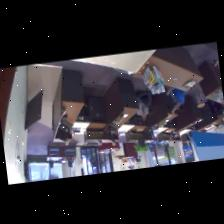person: (166, 87, 184, 112), (136, 91, 150, 119)
